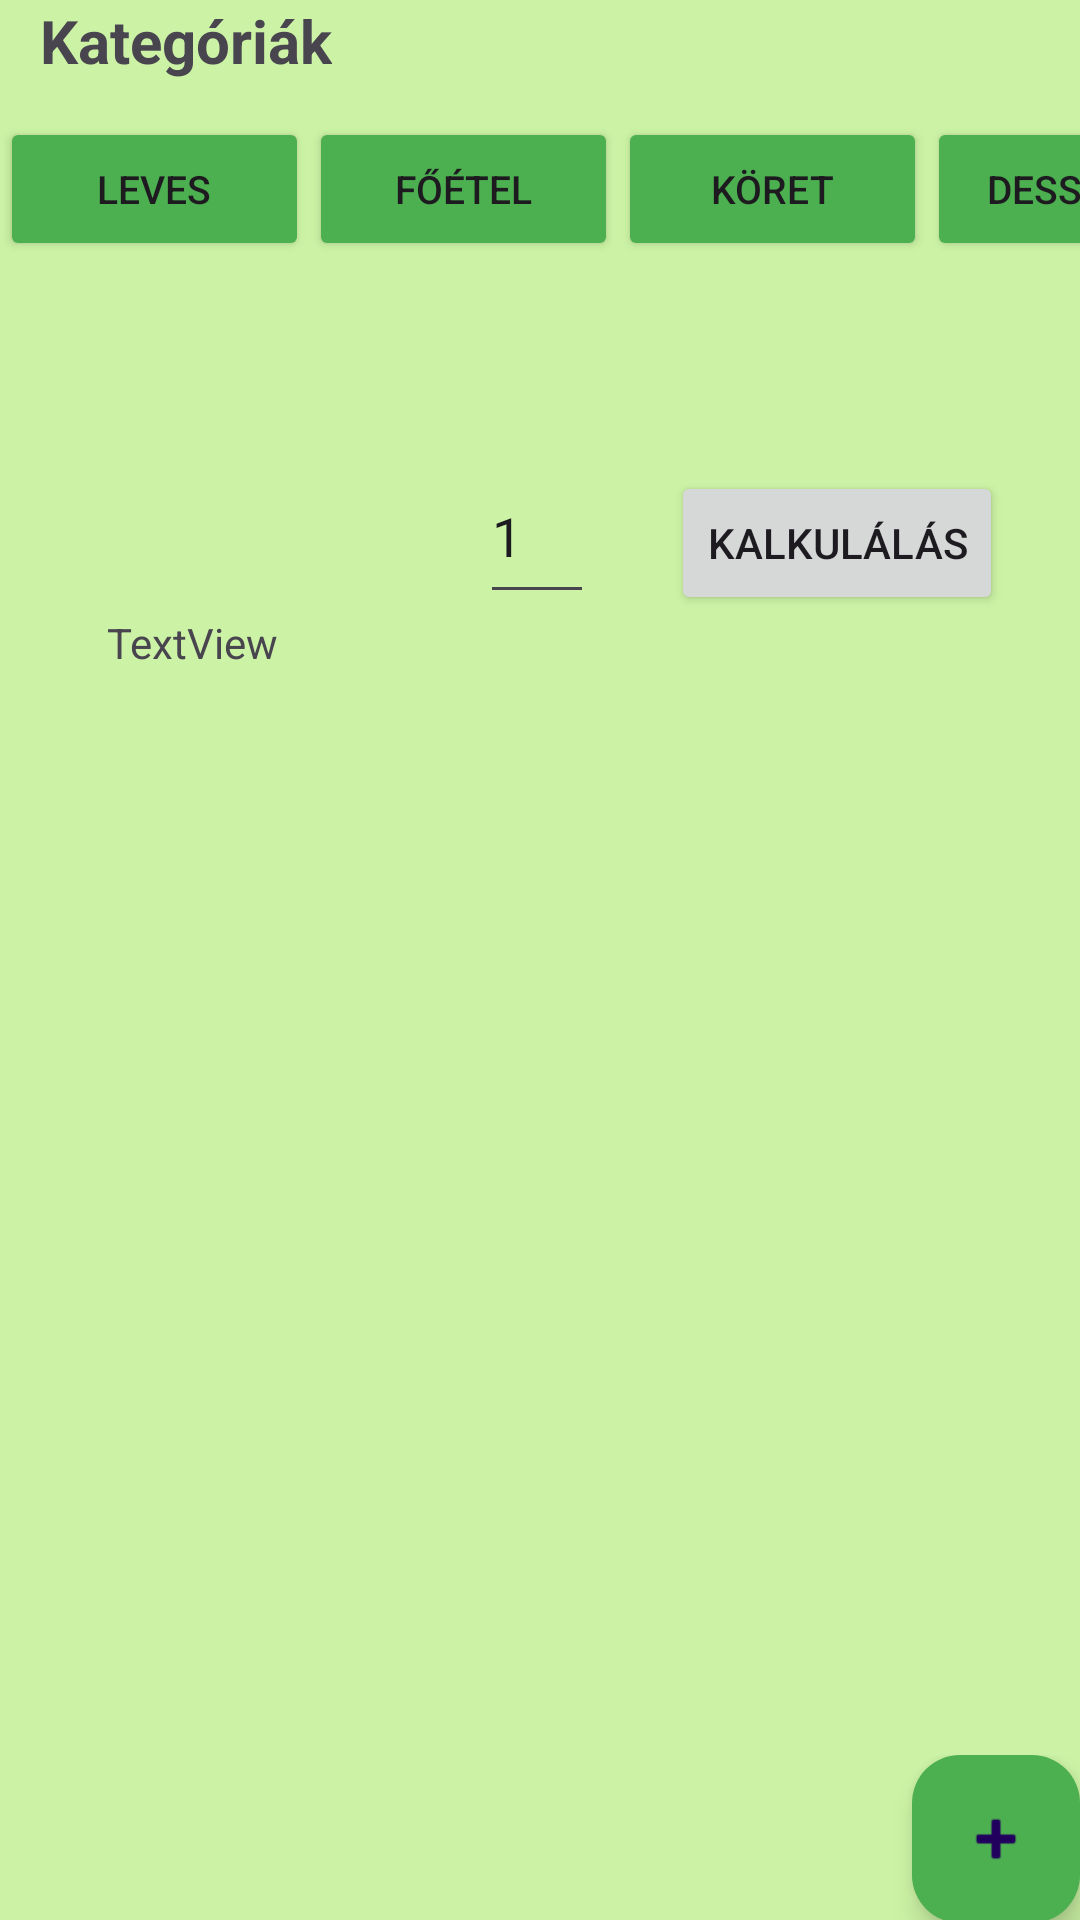

Locate icon controls on the screen. Image size 1080px×1920px, boxes as (x1, y1, x2, y2).
add: (912, 1755, 1080, 1920)
